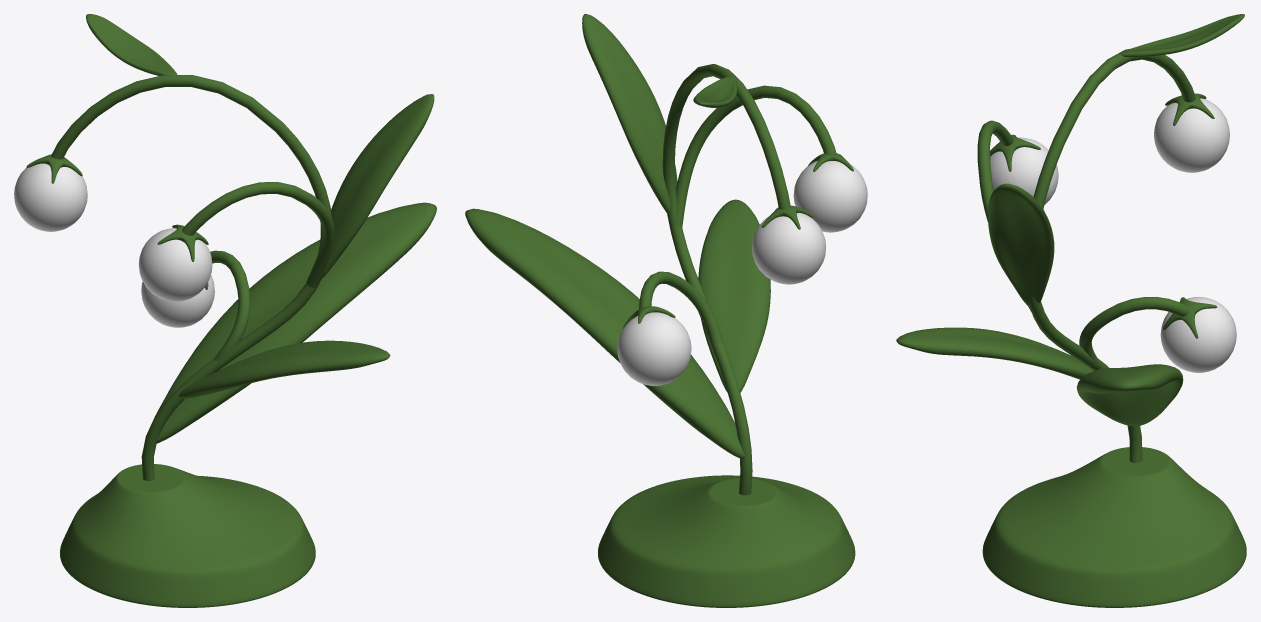
File: GLamp.fbx
The picture shows the model from 3 angles, left to right: view 1: azimuth 30°, elevation 25°; view 2: azimuth 150°, elevation 25°; view 3: azimuth 270°, elevation 25°; orthographic projection. The views are drawn at different scales.
Visible parts, largest first — view 1: Base, Leave0, strand1, Leave2, Leave1, bulb1, bulb2, strand3, Leave3, bulb3, strand2; view 2: Base, Leave0, Leave1, strand1, Leave2, bulb3, bulb1, bulb2, strand3, strand2, Leave3; view 3: Base, Leave2, strand1, Leave0, Leave1, bulb1, bulb3, bulb2, Leave3, strand2, strand3, flowerb3 (+2 smaller).
Part boxes in pixels (x1,y1,x2,y2): Base: (60,464,315,607); Leave0: (154,202,436,443); strand1: (51,75,331,480); Leave2: (320,94,434,279); Leave1: (178,340,390,399); bulb1: (14,163,87,231); bulb2: (138,228,212,301); strand3: (182,182,334,287); Leave3: (86,14,177,76); bulb3: (141,275,214,327); strand2: (210,250,250,361); Base: (598,475,855,607); Leave0: (465,208,744,458); Leave1: (698,199,770,392); strand1: (662,64,790,495); Leave2: (582,14,677,213); bulb3: (617,312,691,385); bulb1: (752,212,825,284); bulb2: (793,160,867,232); strand3: (674,85,836,226); strand2: (639,271,722,348); Leave3: (693,76,737,107); Base: (982,447,1246,607); Leave2: (987,183,1054,306); strand1: (1029,49,1195,462); Leave0: (1076,364,1183,426); Leave1: (896,327,1093,379); bulb1: (1154,98,1229,172); bulb3: (1160,296,1236,372); bulb2: (990,137,1058,204); Leave3: (1120,14,1244,57); strand2: (1079,297,1189,367); strand3: (977,120,1031,312); flowerb3: (1163,297,1217,338).
Size of the model in its own units: 25.64 by 32.1 by 19.62.
